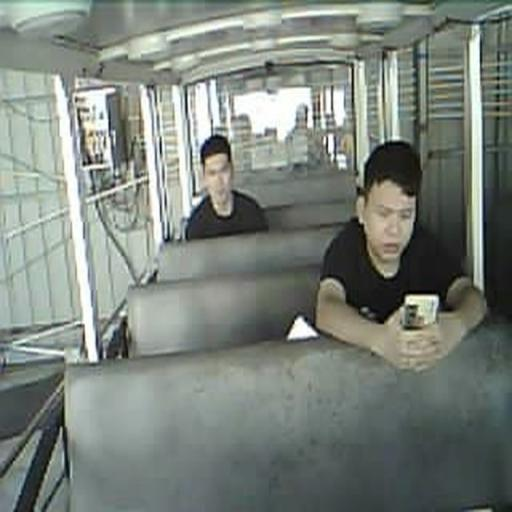persona: (314, 139, 488, 373), (183, 133, 270, 241)
